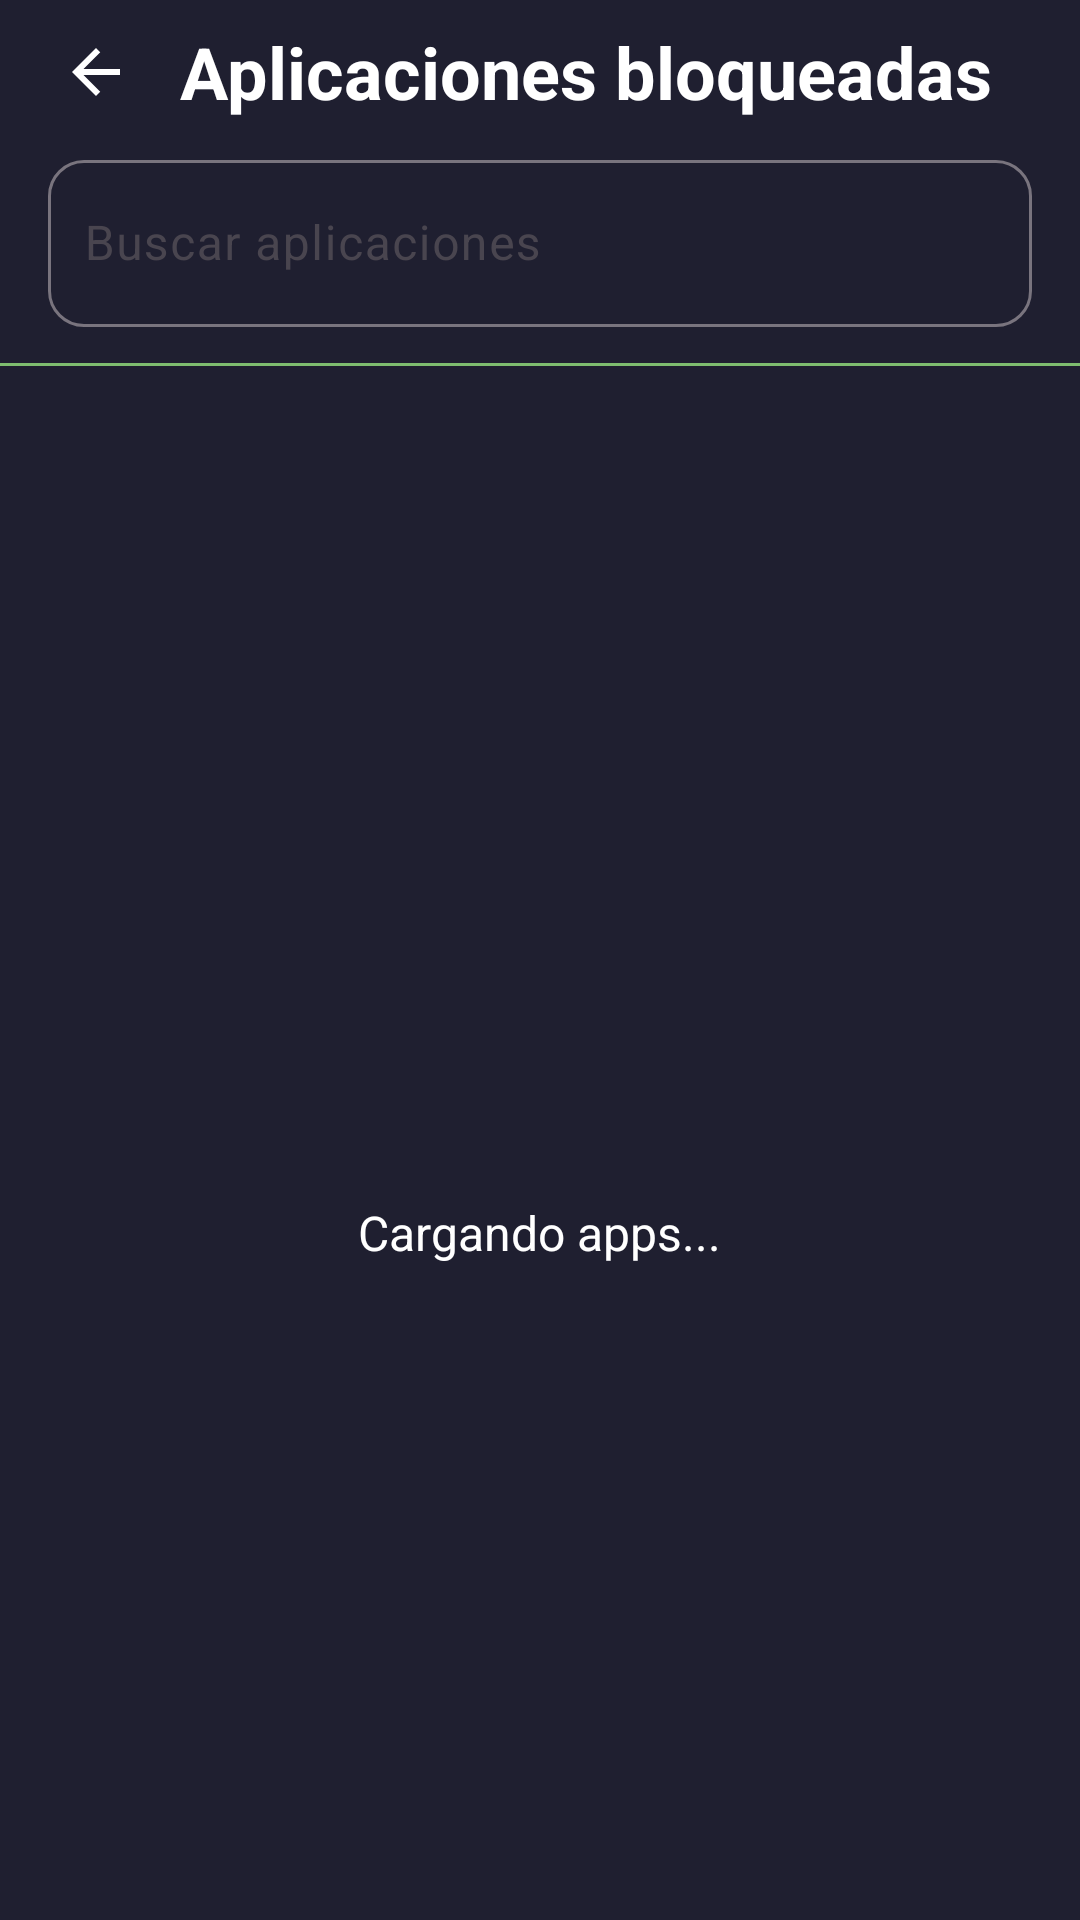

Locate icon controls on the screen. Image size 1080x1920, boxes as (x1, y1, x2, y2).
Volver: (72, 48, 120, 96)
